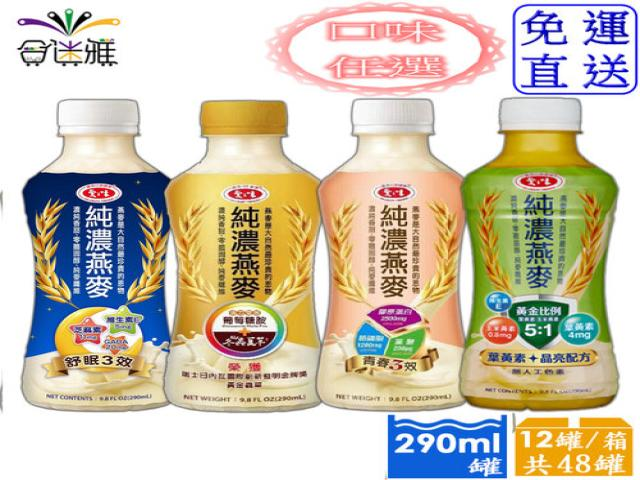bottle: (461, 98, 619, 409), (165, 101, 320, 411), (21, 99, 169, 410), (318, 98, 464, 410)
